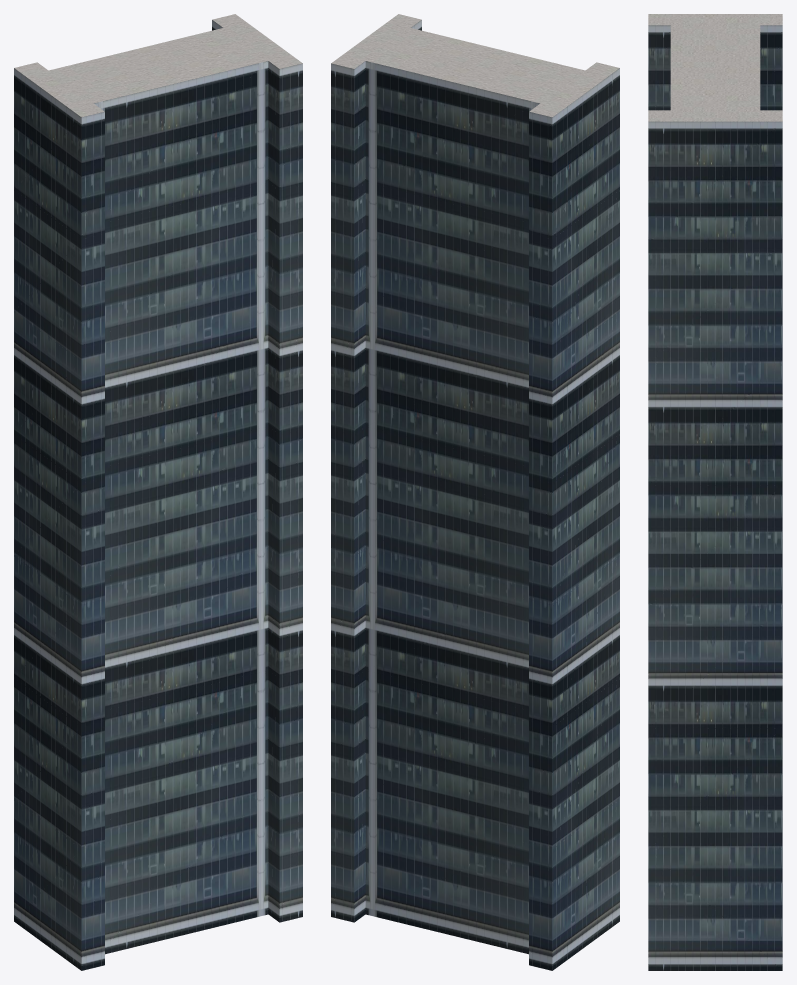
Rendered from Building 4.fbx.
3 renders of one model, left to right at view 1: azimuth 30°, elevation 25°; view 2: azimuth 150°, elevation 25°; view 3: azimuth 270°, elevation 25°, orthographic.
Parts seen in each view (by area): view 1: Building 4; view 2: Building 4; view 3: Building 4.
Boxes of the visible parts, x1,y1,x2,y2 form: Building 4: (14,14,302,970); Building 4: (331,14,619,970); Building 4: (648,14,782,970).
Bounding box in the file's own units: 1710 × 6300 × 903.
Materials: 2 (2 with a texture image).
